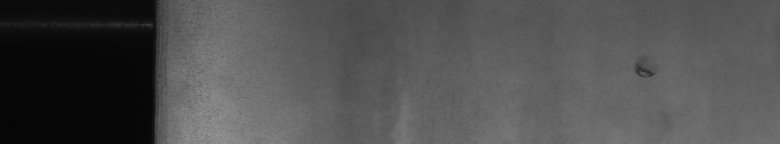fi: (631, 59, 658, 84)
